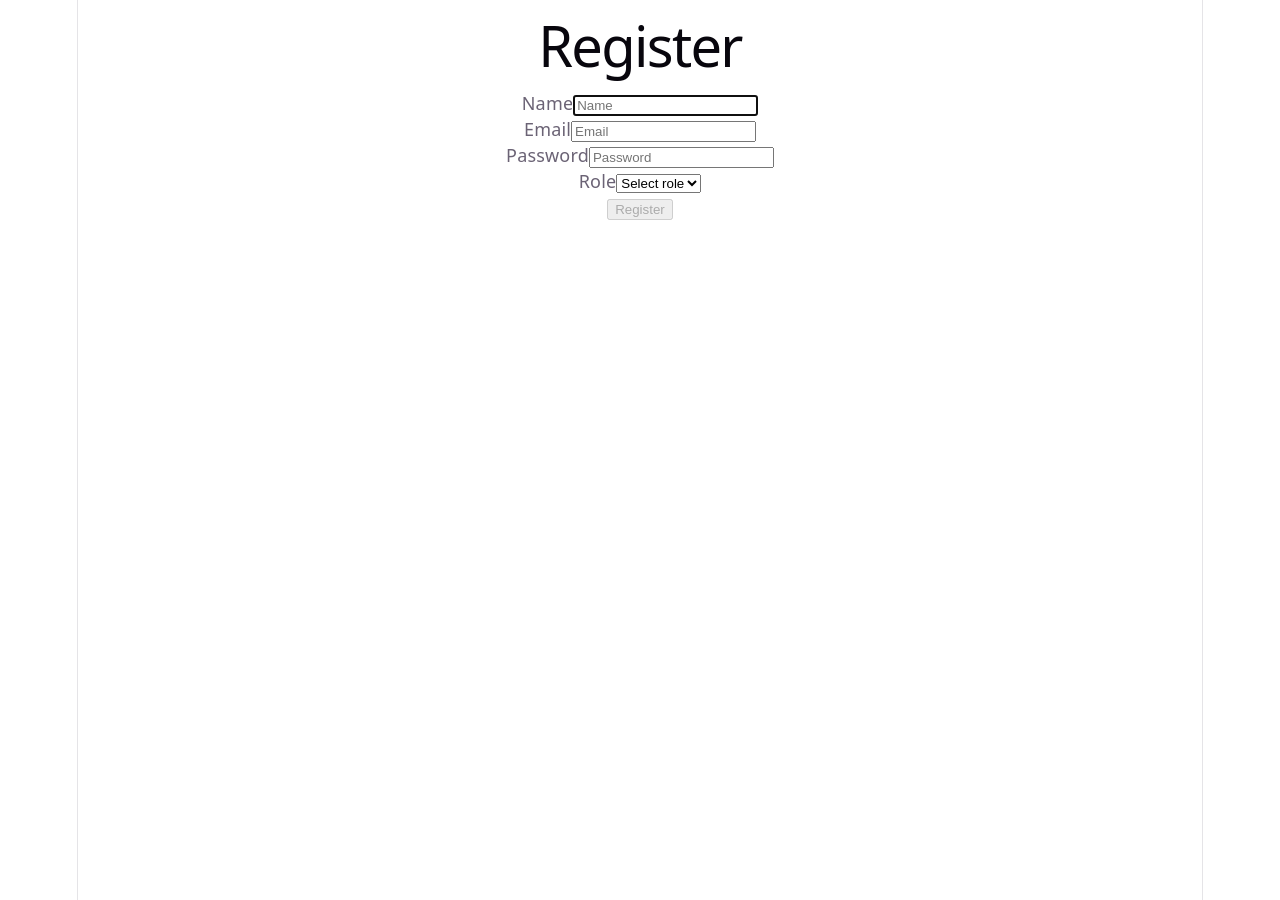
Scenario: RegisterPage › shows an error message when the register request fails
In the field labelled "Name": (666, 106) [573, 95, 758, 116], type "Jane Doe"
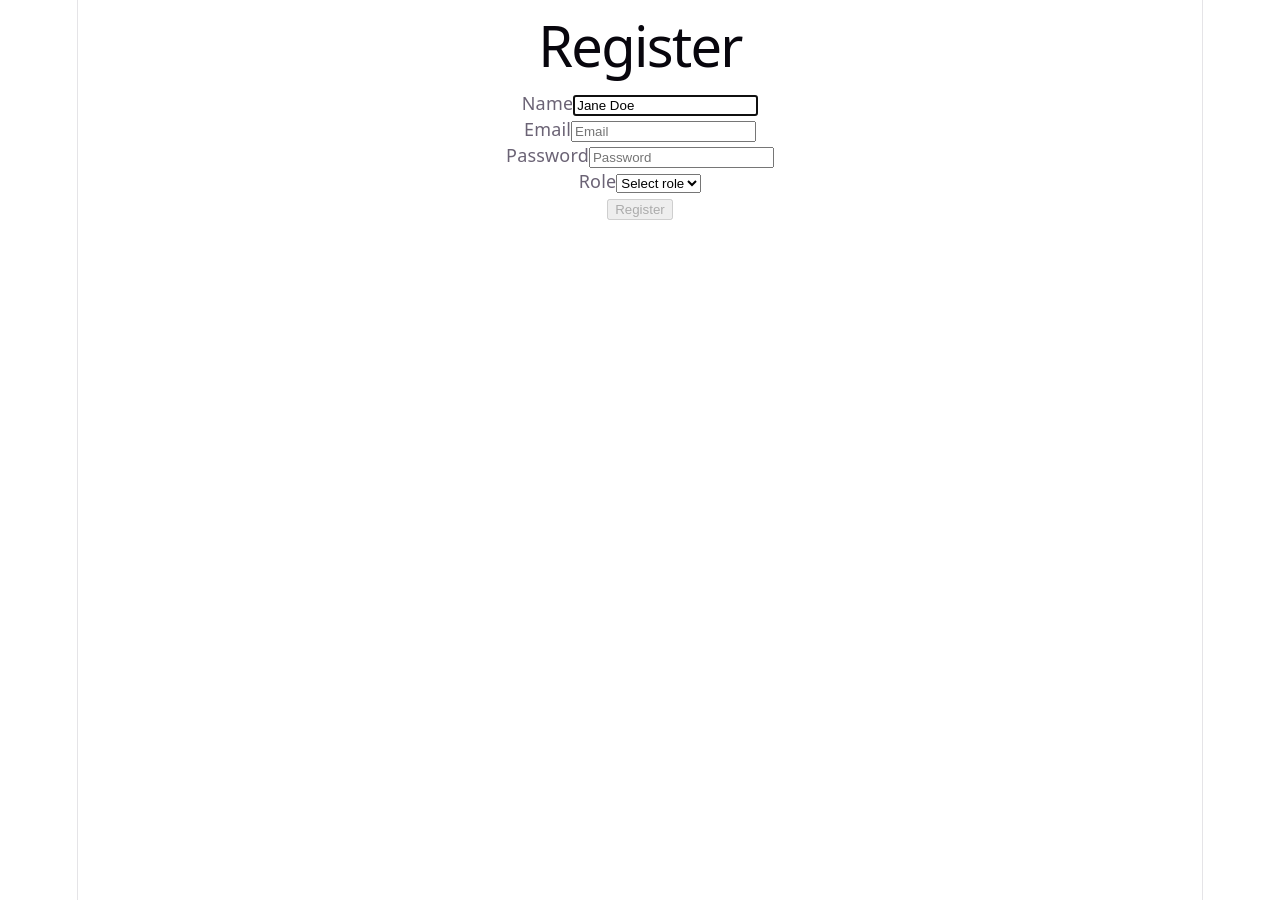
In the field labelled "Email": (664, 132) [571, 121, 756, 142], type "jane@example.com"
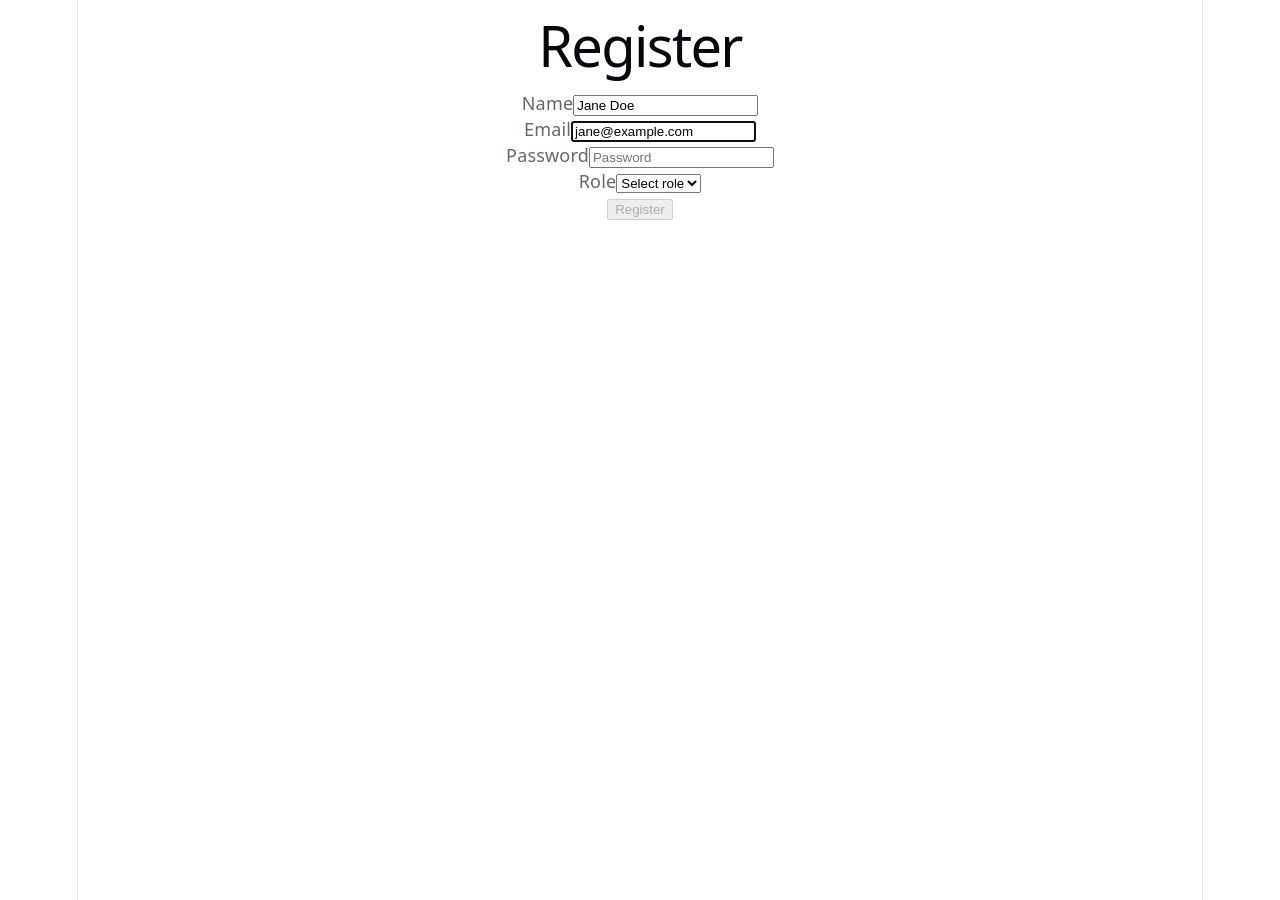
In the password field labelled "Password": (681, 158) [589, 147, 774, 168], type "Password1!"
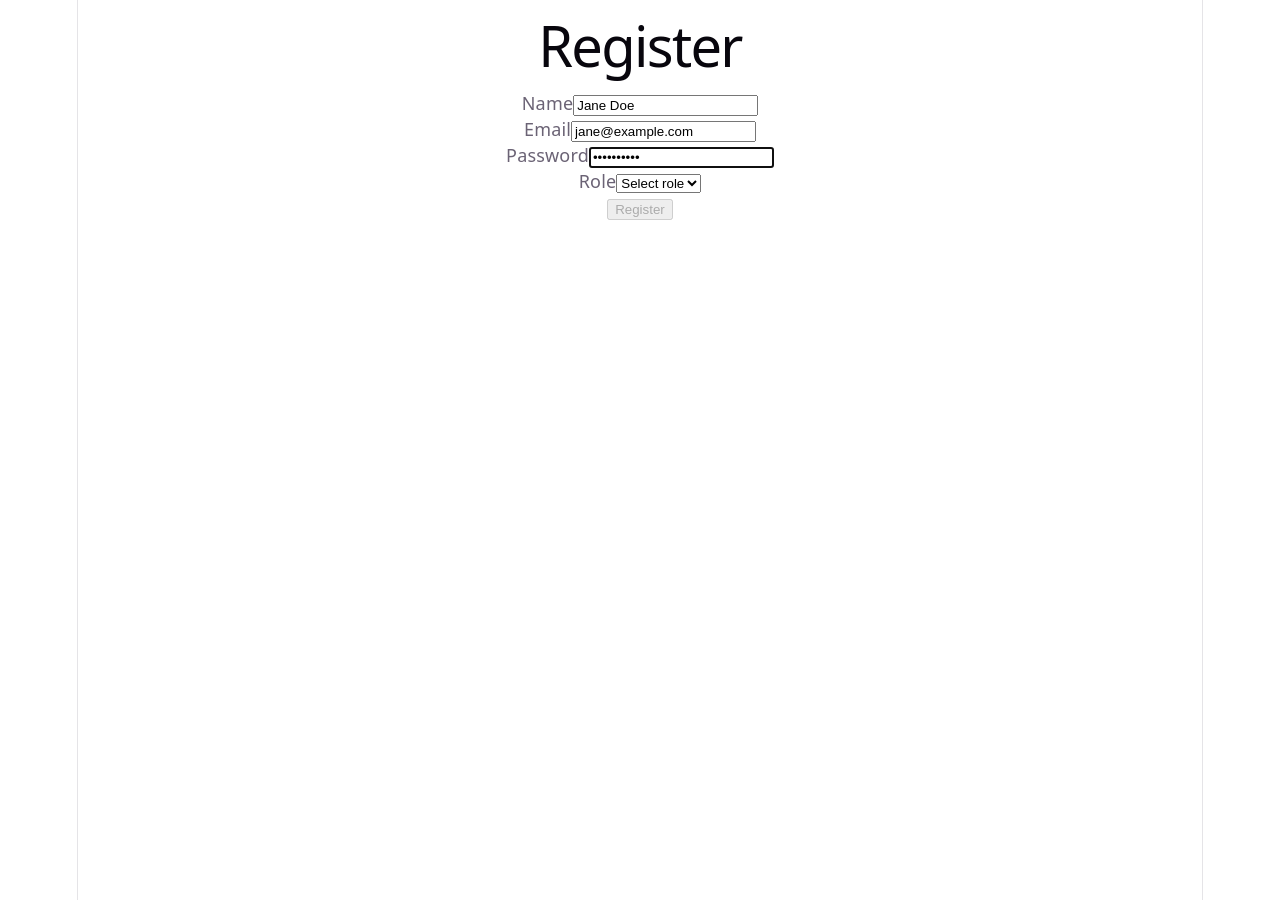
Select "Student" in the dropdown labelled "Role": (659, 184) [616, 174, 701, 193]
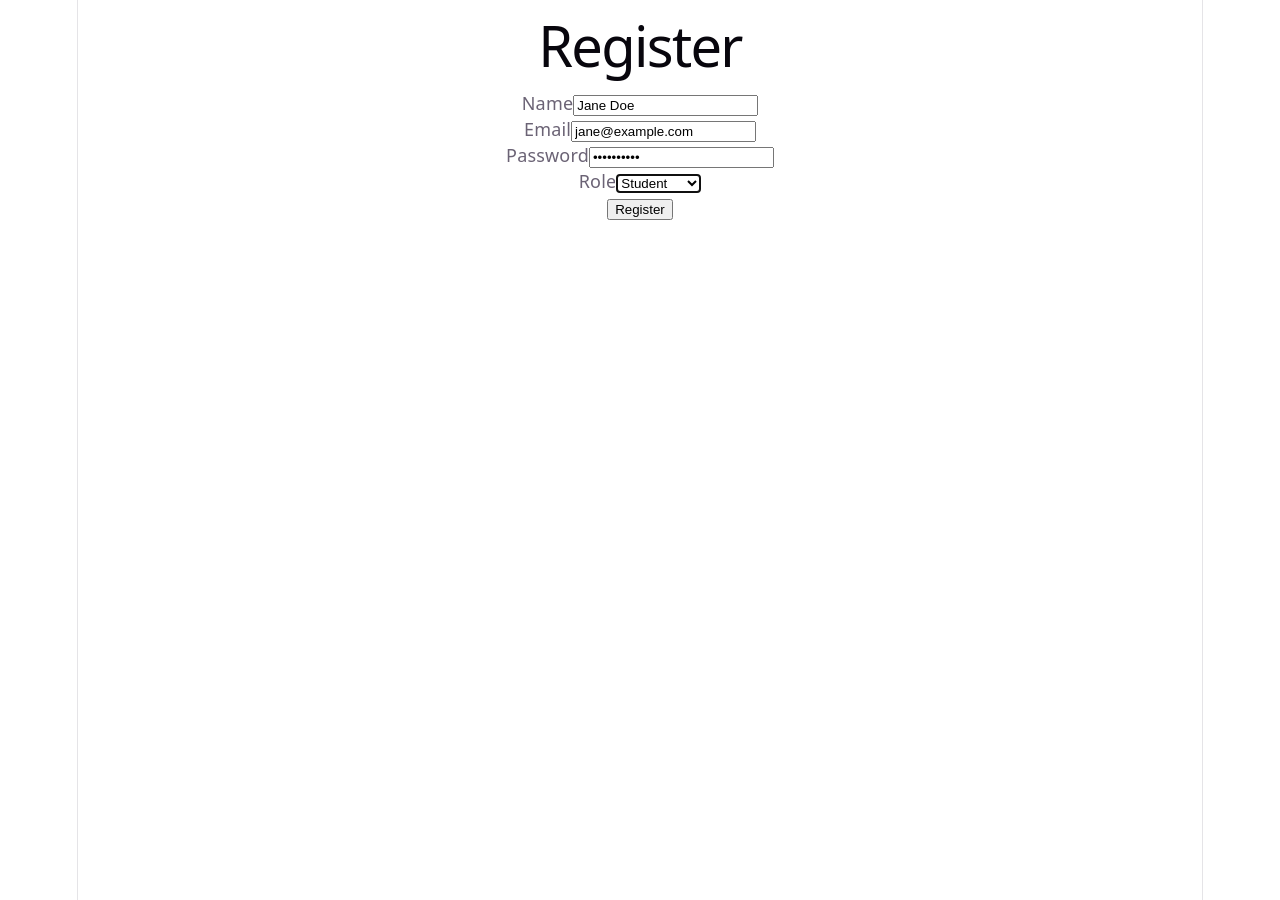
Click the button "Register": (640, 210) [607, 200, 673, 220]
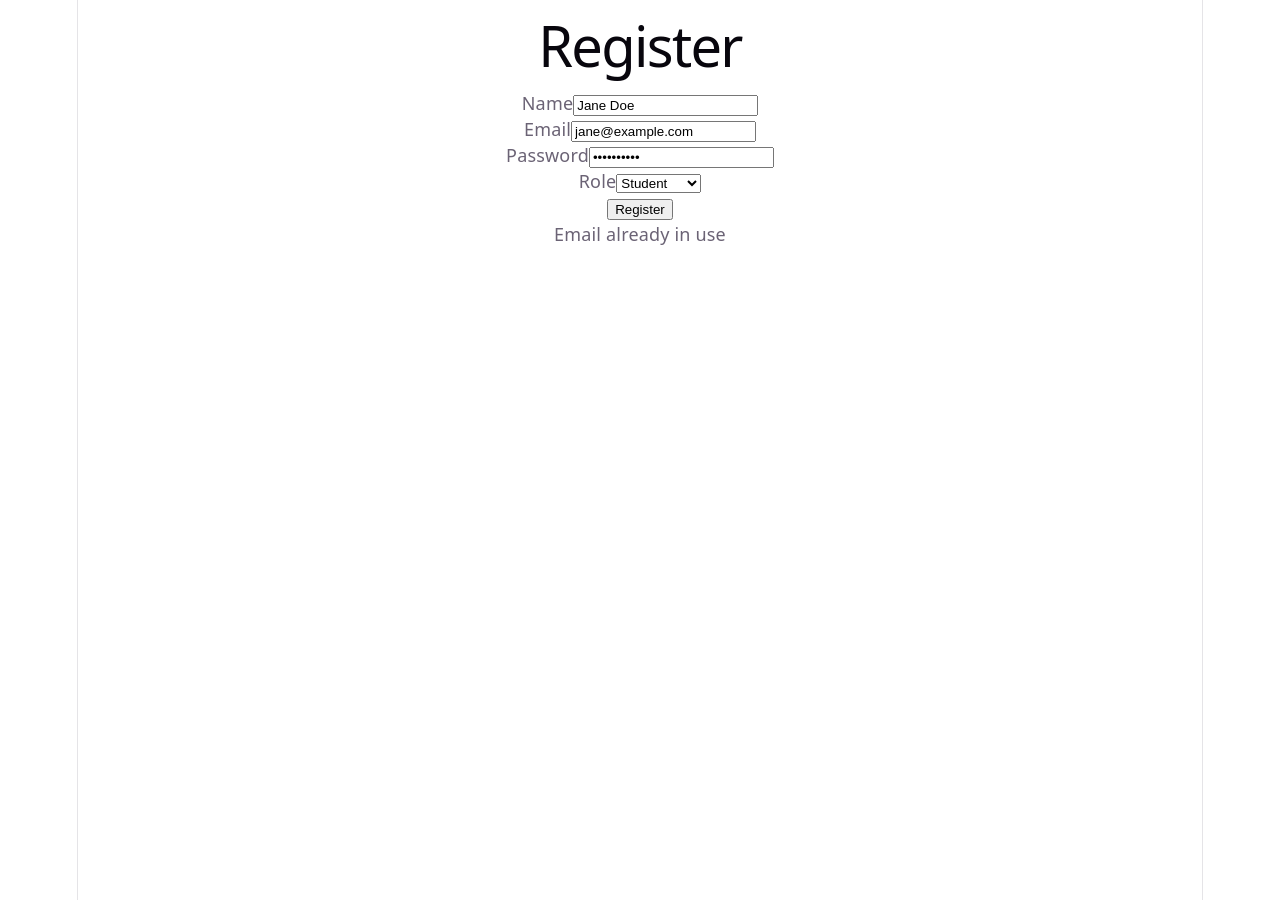
Result: the text "Email already in use" is shown at [554, 222, 726, 246]
